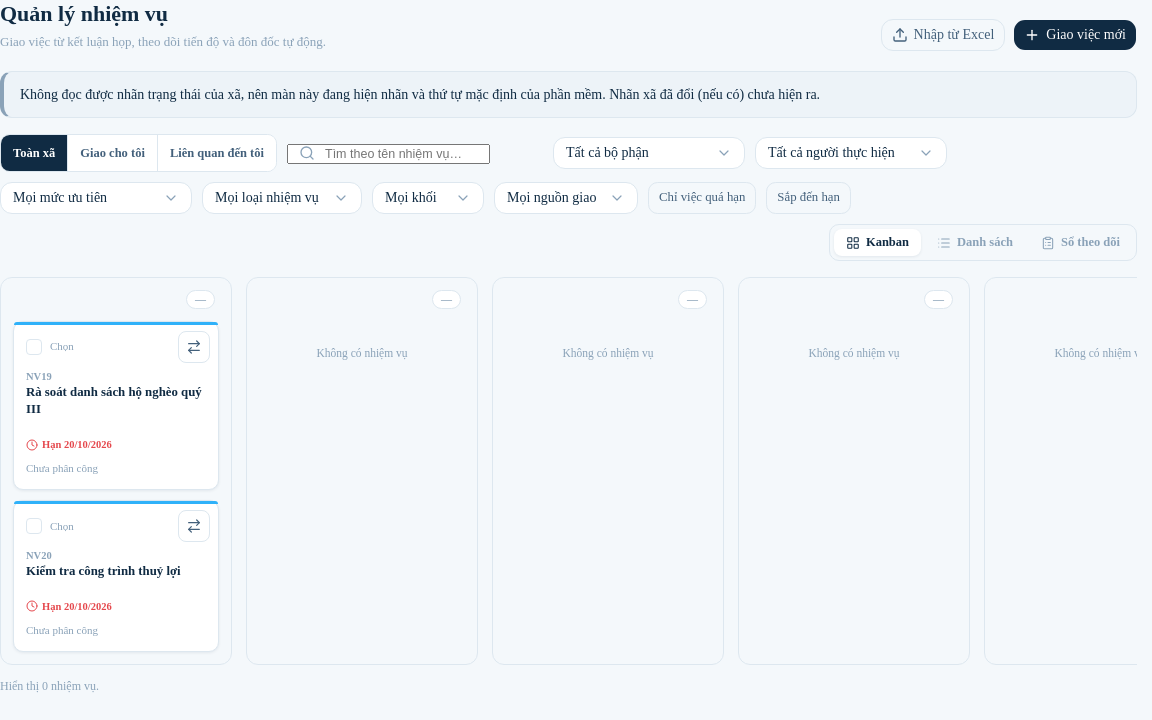
record tabs on the task panel › open A, hide the panel, open B → two tabs, B active; the panel's ✕ kept A
The image size is (1152, 720).
Click the button "NV19 Rà soát danh sách hộ nghèo quý III": (116, 392) [14,364,218,419]
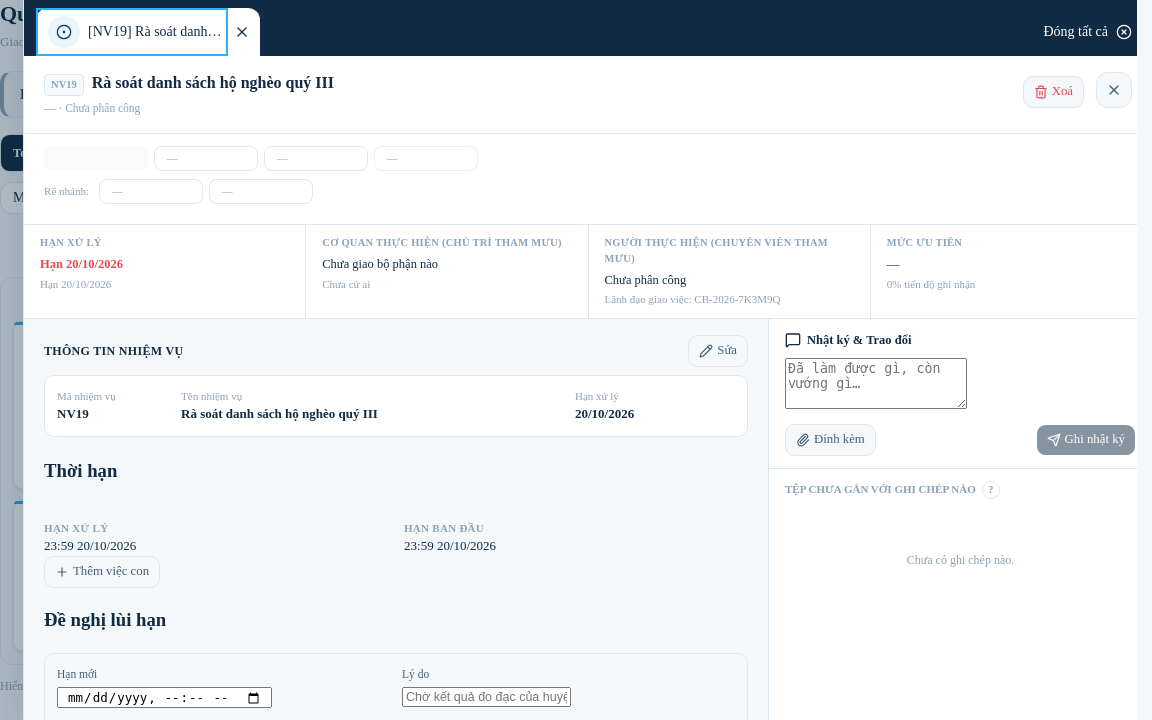
Click the button named "Đóng": (1114, 90) [1096,72,1132,108]
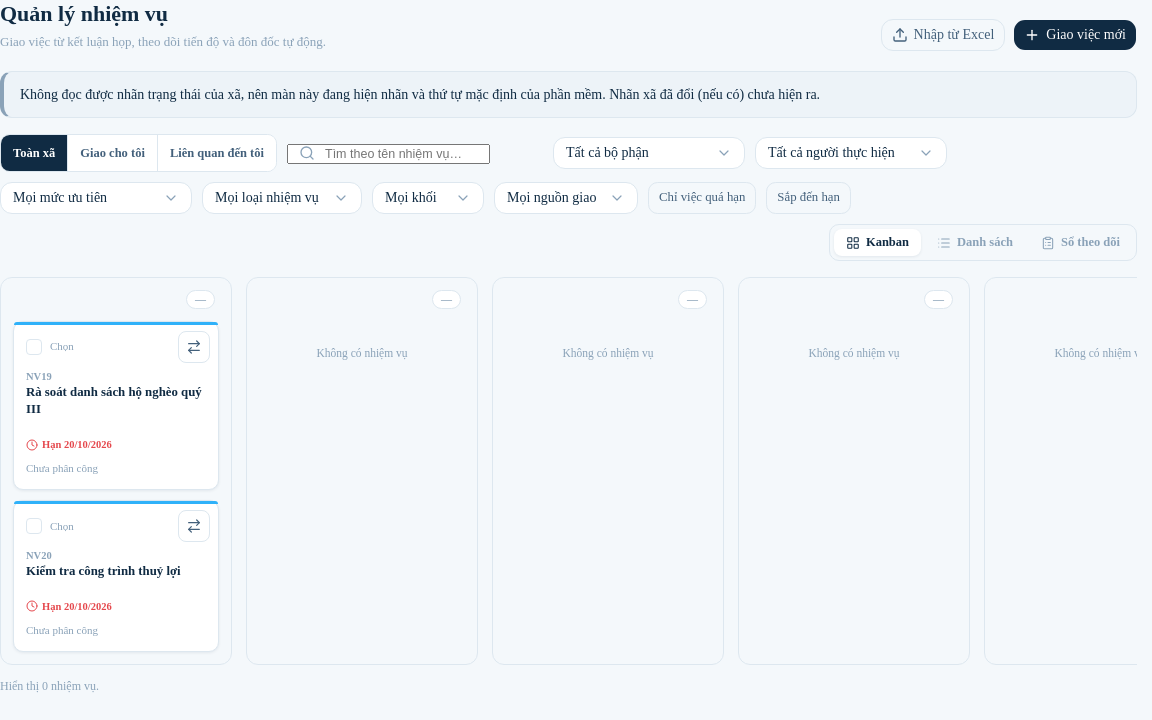
Expected: the dialog is gone
Click the button "NV20 Kiểm tra công trình thuỷ lợi": (116, 562) [14,544,218,580]
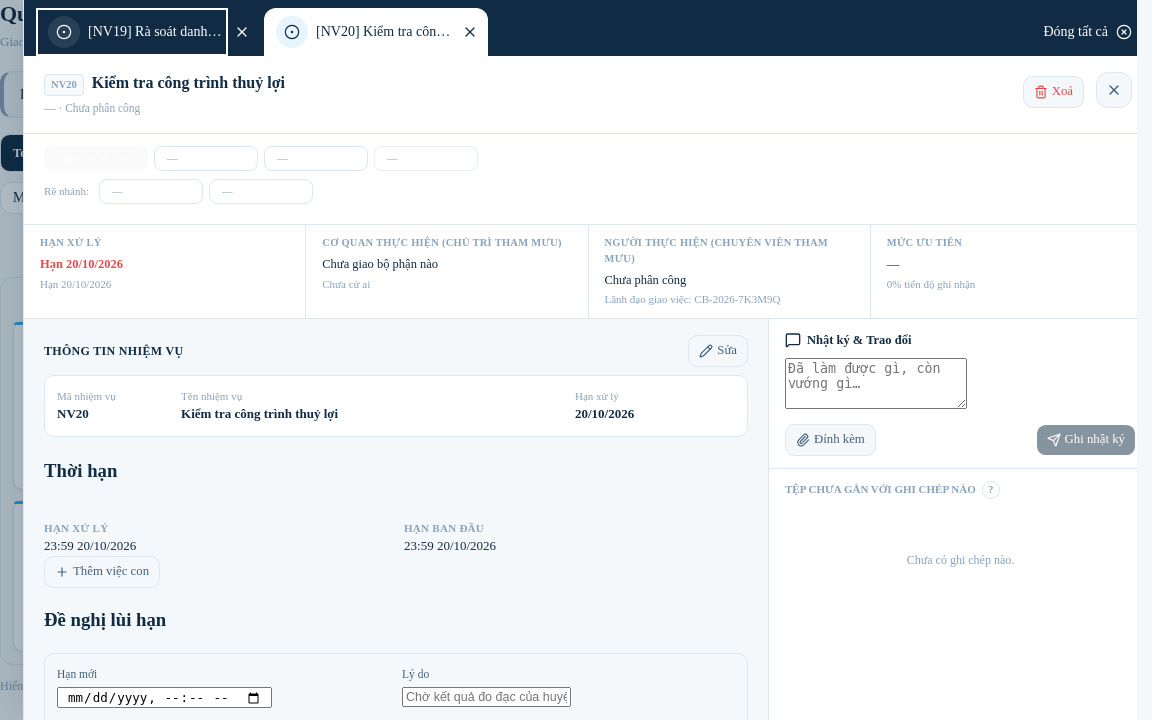
Expected: the tab "[NV20] Kiểm tra công trình thuỷ lợi" is shown, [264,8,456,56]
Expected: the header with id "tieu-de-chi-tiet-nhiem-vu" shows "NV20", [51,79,77,90]
